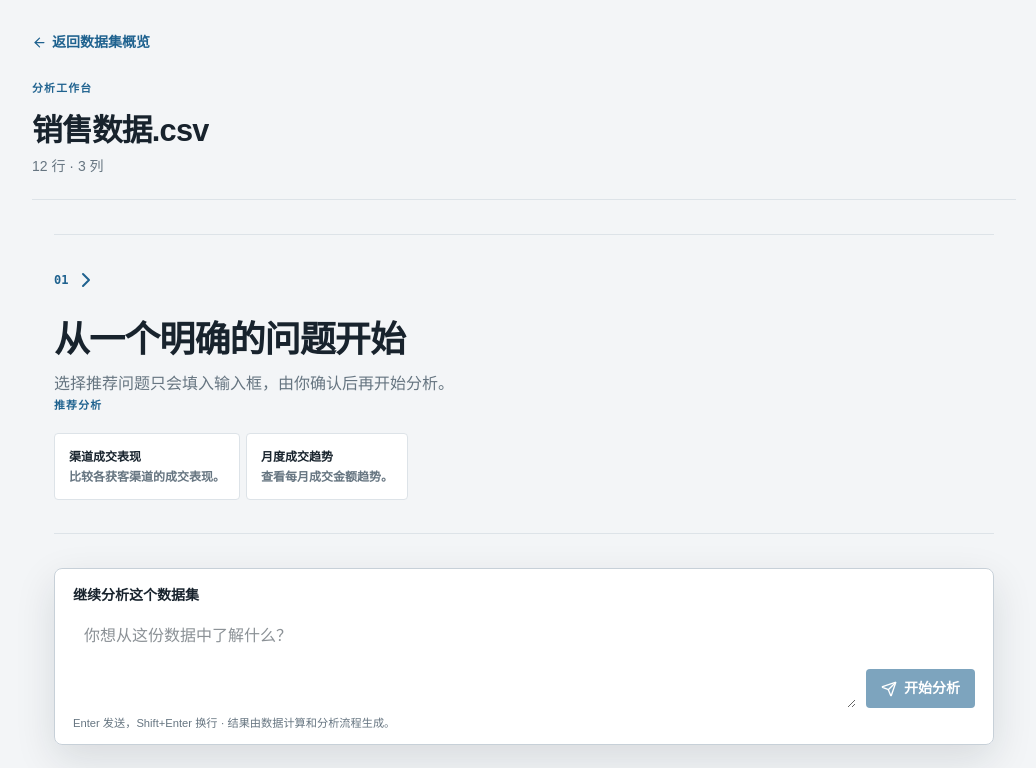
Test: AnalysisWorkbenchPage › creates a conversation only on the first real submission, then creates a run
The width and height of the screenshot is (1036, 768).
Step 1. Type "分析销售数据" into the text box named "输入分析问题" → x=464, y=661, box x1=73 y1=614 x2=856 y2=708
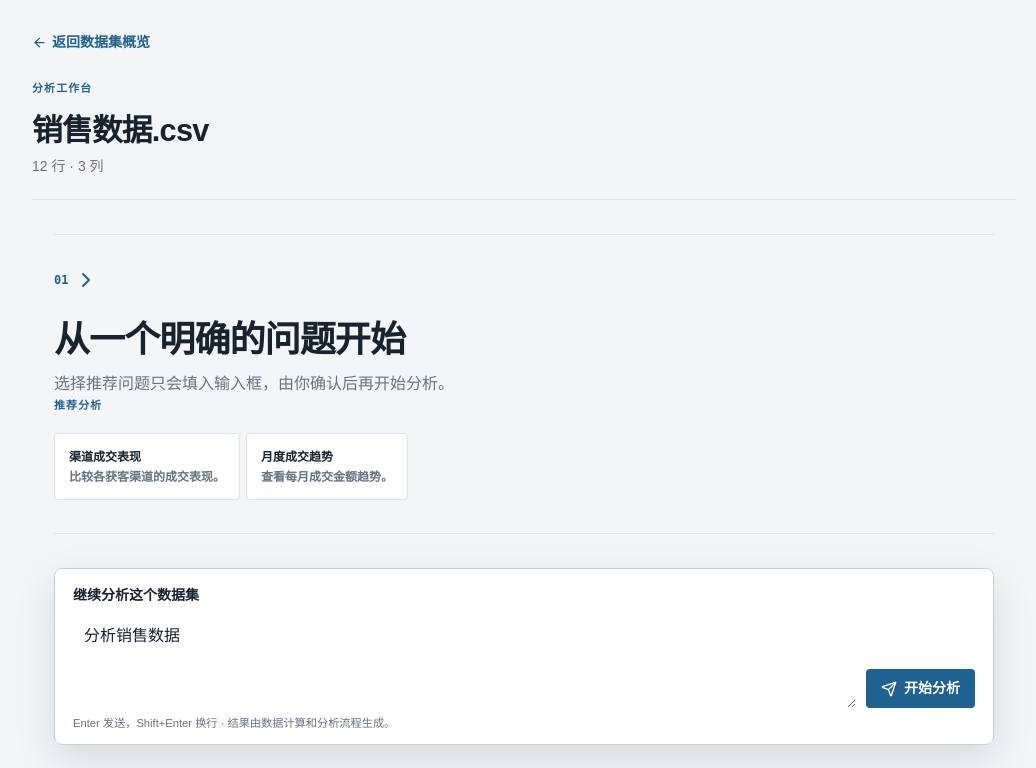
Step 2. Click the button "开始分析" → x=920, y=689, box x1=866 y1=669 x2=975 y2=708
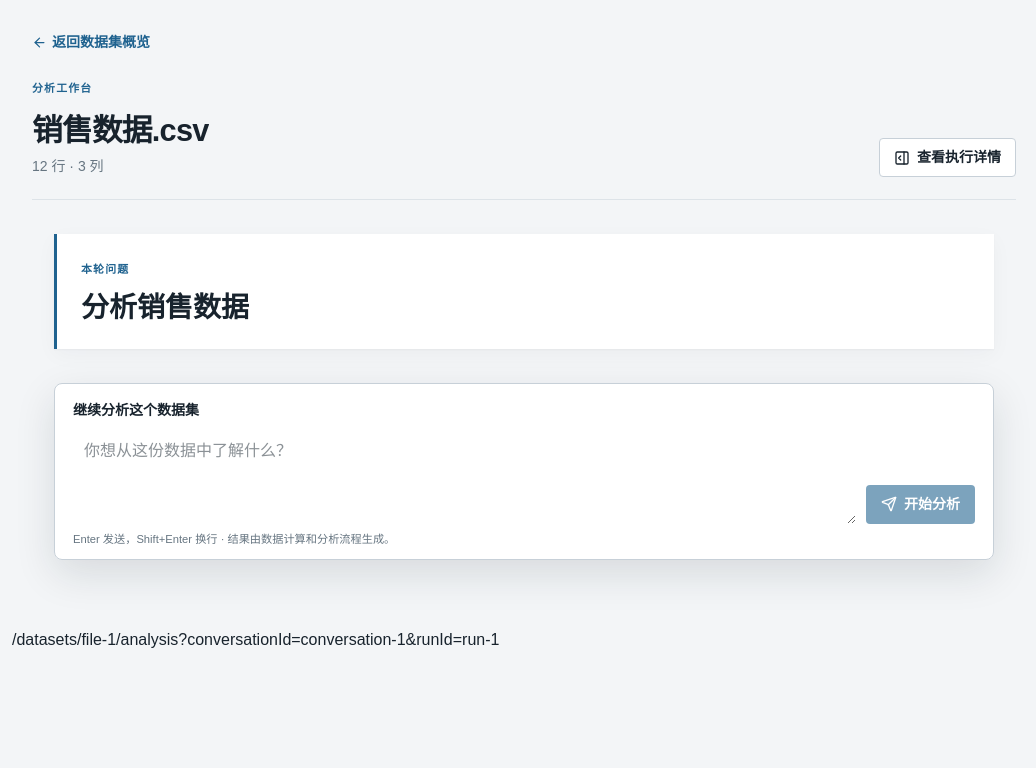
Result: the text named "当前地址" reads "/datasets/file-1/analysis?conversationId=conversation-1&runId=run-1" at x1=12 y1=631 x2=499 y2=648
